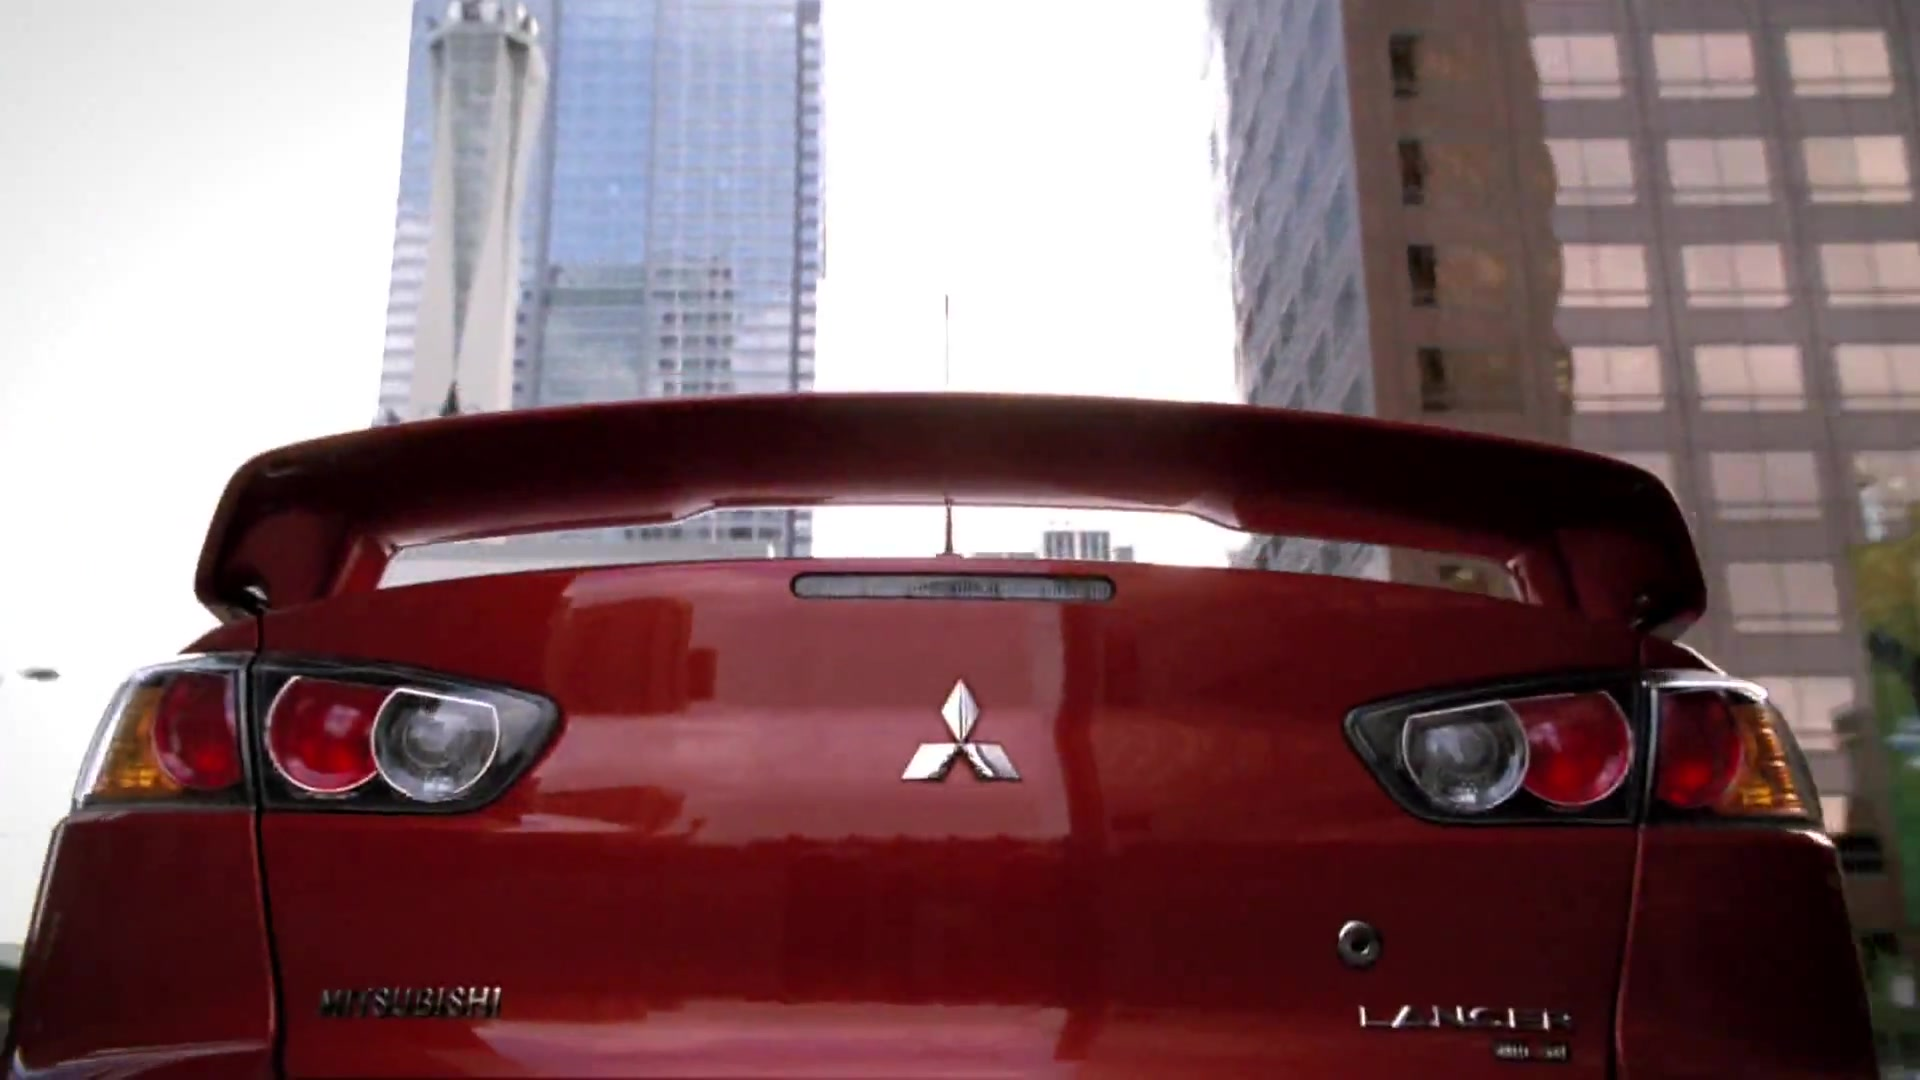car: (3, 386, 1920, 1080)
